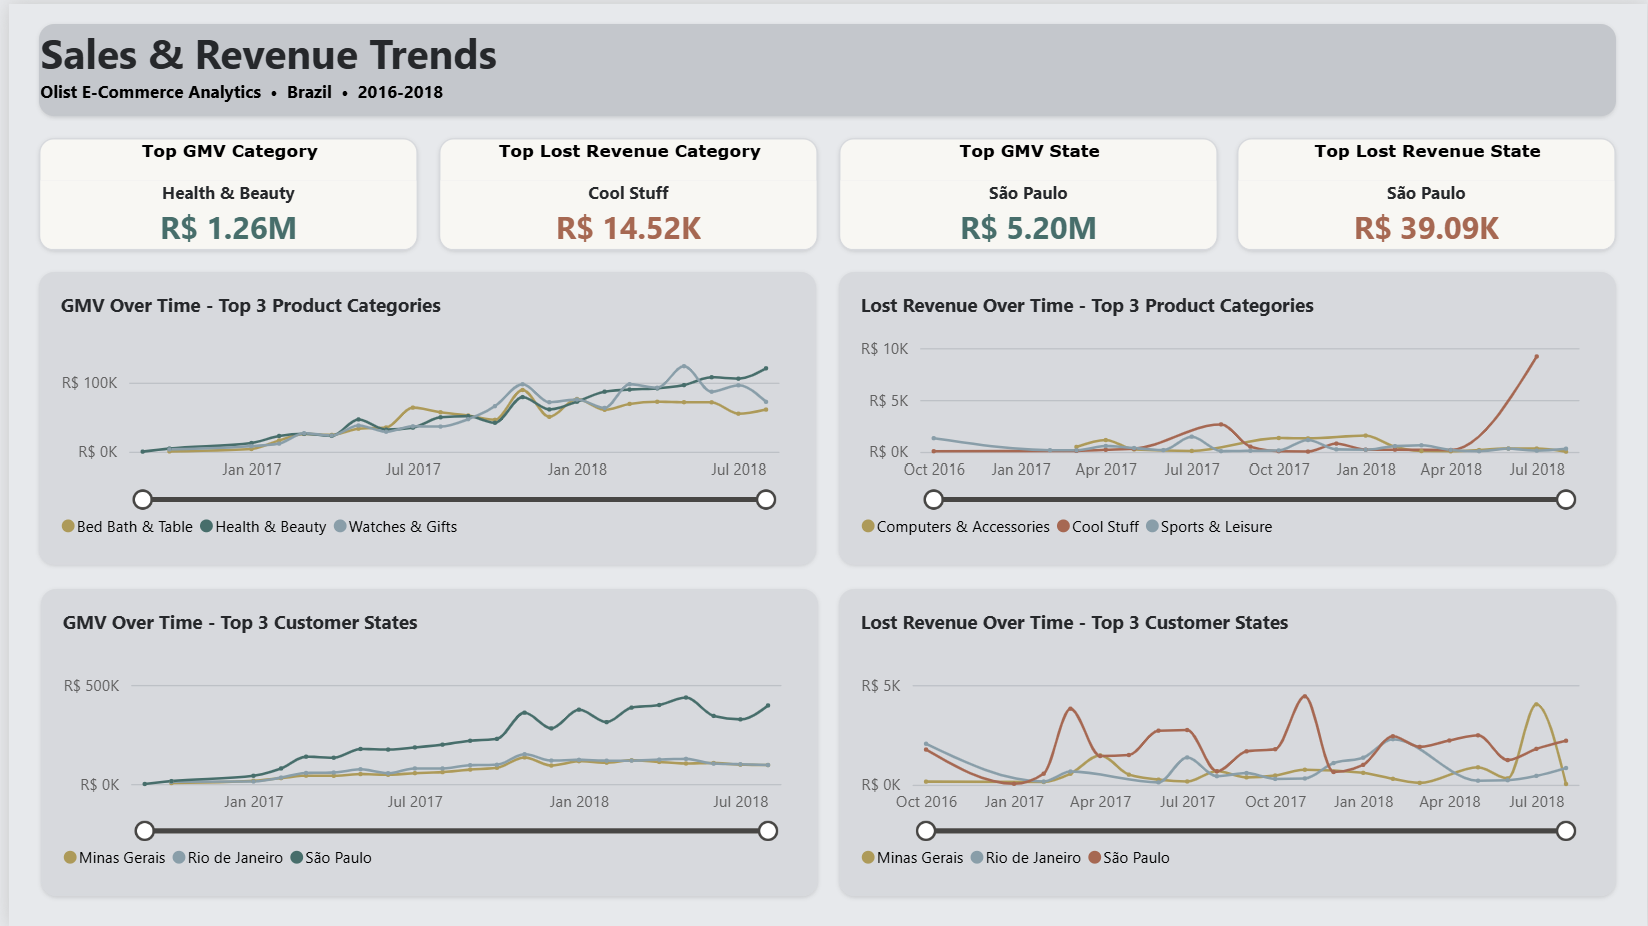

What the dashboard file says about the page in this screenshot:
{"tool":"powerbi","page":{"name":"Sales & Revenue Trends","canvas":[1280,720],"ordinal":1},"visuals":[{"type":"lineChart","title":"GMV Over Time - Top 3 Product Categories","fields":{"Y":["Sum(public gmv_over_time.gmv)"],"Category":["public gmv_over_time.order_purchase_timestamp.Variation.Date Hierarchy.Year","public gmv_over_time.order_purchase_timestamp.Variation.Date Hierarchy.Quarter","public gmv_over_time.order_purchase_timestamp.Variation.Date Hierarchy.Month","public gmv_over_time.order_purchase_timestamp.Variation.Date Hierarchy.Day"],"Series":["public gmv_over_time.Top Categories Display"]},"box":[24,210,607,228],"z":1000},{"type":"lineChart","title":"Lost Revenue Over Time - Top 3 Product Categories","fields":{"Y":["public customer_type_and_spending.Lost gmv"],"Category":["public gmv_over_time.order_purchase_timestamp.Variation.Date Hierarchy.Year","public gmv_over_time.order_purchase_timestamp.Variation.Date Hierarchy.Quarter","public gmv_over_time.order_purchase_timestamp.Variation.Date Hierarchy.Month","public gmv_over_time.order_purchase_timestamp.Variation.Date Hierarchy.Day"],"Series":["public gmv_over_time.Top Categories Display"]},"box":[649,210,607,228],"z":2000},{"type":"lineChart","title":"GMV Over Time - Top 3 Customer States","fields":{"Y":["Sum(public gmv_over_time.gmv)"],"Category":["public gmv_over_time.order_purchase_timestamp.Variation.Date Hierarchy.Year","public gmv_over_time.order_purchase_timestamp.Variation.Date Hierarchy.Quarter","public gmv_over_time.order_purchase_timestamp.Variation.Date Hierarchy.Month","public gmv_over_time.order_purchase_timestamp.Variation.Date Hierarchy.Day"],"Series":["public gmv_over_time.Customer States Display"]},"box":[24.5,456.3,607,240],"z":3000},{"type":"lineChart","title":"Lost Revenue Over Time - Top 3 Customer States","fields":{"Y":["public customer_type_and_spending.Lost gmv"],"Category":["public gmv_over_time.order_purchase_timestamp.Variation.Date Hierarchy.Year","public gmv_over_time.order_purchase_timestamp.Variation.Date Hierarchy.Quarter","public gmv_over_time.order_purchase_timestamp.Variation.Date Hierarchy.Month","public gmv_over_time.order_purchase_timestamp.Variation.Date Hierarchy.Day"],"Series":["public gmv_over_time.Customer States Display"]},"box":[649,456,607,240],"z":4000},{"type":"cardVisual","title":"Top GMV Category","fields":{"Data":["Sum(public gmv_over_time.gmv)"]},"box":[24,104,296,88],"z":5000},{"type":"cardVisual","title":"Top Lost Revenue Category","fields":{"Data":["public customer_type_and_spending.Lost Revenue"]},"box":[336,104,296,88],"z":6000},{"type":"cardVisual","title":"Top GMV State","fields":{"Data":["Sum(public gmv_over_time.gmv)"]},"box":[648,104,296,88],"z":7000},{"type":"cardVisual","title":"Top Lost Revenue State","fields":{"Data":["public customer_type_and_spending.Lost Revenue"]},"box":[960,104,296,88],"z":8000},{"type":"textbox","box":[24,16,1232,72],"z":50000}]}

Visuals, with their boxes in screenshot pixels (x1, y1, x2, y2), scaled from the page's 1280x720 canvas onto the 1648x926 screenshot:
"GMV Over Time - Top 3 Product Categories" lineChart: rect(31, 270, 812, 563)
"Lost Revenue Over Time - Top 3 Product Categories" lineChart: rect(836, 270, 1617, 563)
"GMV Over Time - Top 3 Customer States" lineChart: rect(32, 587, 813, 896)
"Lost Revenue Over Time - Top 3 Customer States" lineChart: rect(836, 586, 1617, 895)
"Top GMV Category" cardVisual: rect(31, 134, 412, 247)
"Top Lost Revenue Category" cardVisual: rect(433, 134, 814, 247)
"Top GMV State" cardVisual: rect(834, 134, 1215, 247)
"Top Lost Revenue State" cardVisual: rect(1236, 134, 1617, 247)
textbox: rect(31, 21, 1617, 113)
